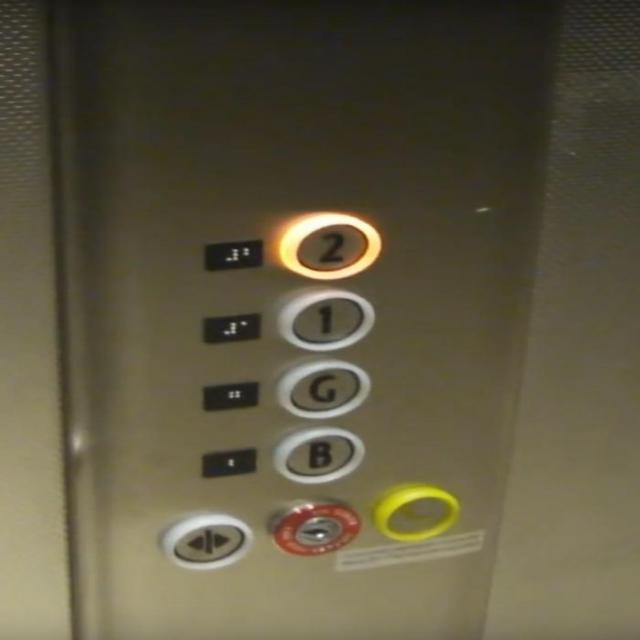1: (272, 287, 381, 354)
2: (271, 210, 388, 282)
B: (268, 425, 365, 484)
G: (272, 357, 373, 421)
blur: (369, 483, 464, 542)
keyhole: (265, 498, 362, 558)
open: (154, 512, 256, 572)
